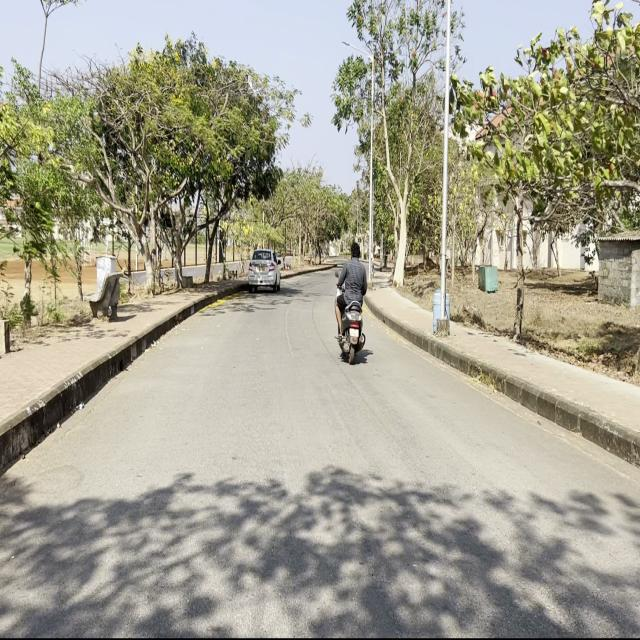Object: (338, 238, 372, 372), (250, 242, 282, 297)
Road: (3, 266, 634, 631)
